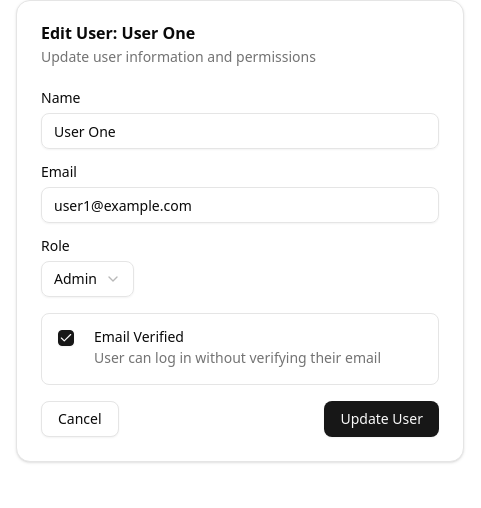
Test: EditUser › shows validation error if name is missing
Clear the field labelled "Name": (240, 131) [41,113,439,149]
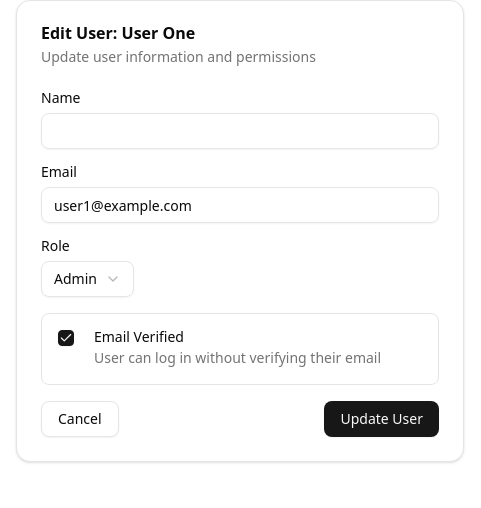
Note: Use getByRole for the submit button
Click the button "Update User": (382, 419) [324,401,439,437]
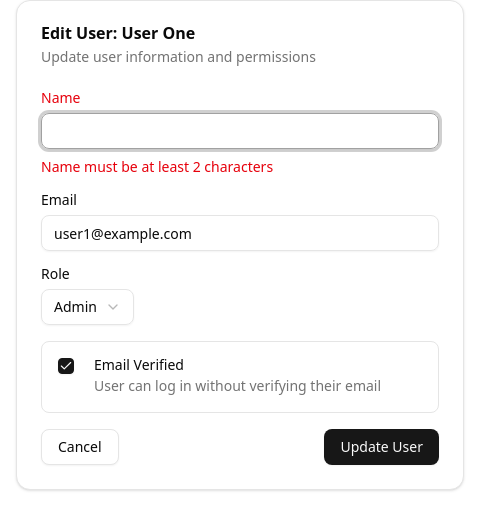
Result: the text "Name must be at least 2 characters" is shown at [41,157,273,176]
